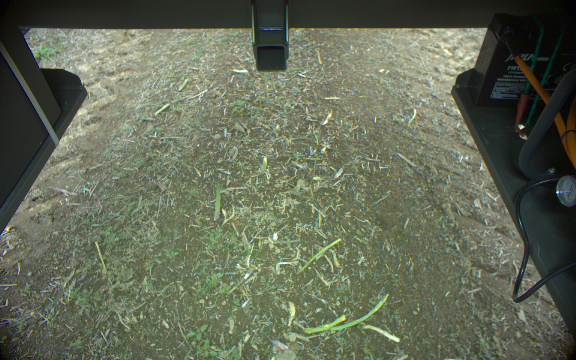aspa: (333, 292, 388, 332), (301, 237, 342, 271), (302, 313, 346, 335), (360, 324, 399, 343), (209, 174, 222, 221), (258, 156, 268, 177)
